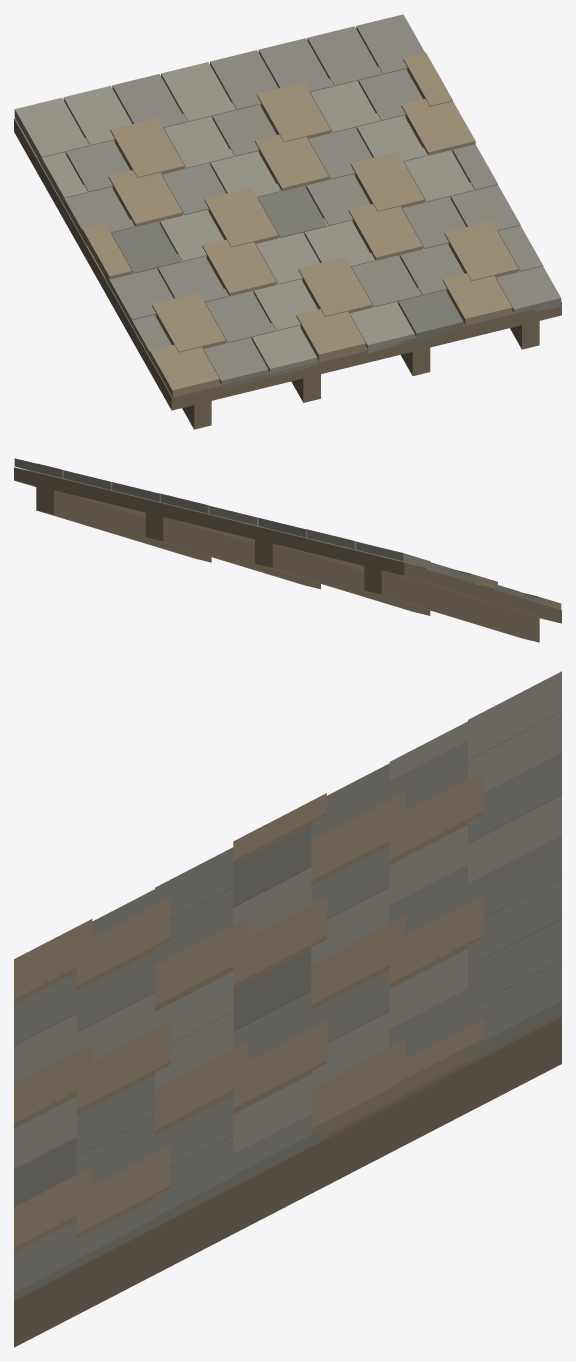
The model's file is env_roof_shingle_fine_b_v05_mixed_shingles.glb.
3 views of the same model, one above another, from view 1: azimuth 30°, elevation 25°; view 2: azimuth 150°, elevation 25°; view 3: azimuth 270°, elevation 25° (orthographic). The views are drawn at different scales.
Visible parts, largest first — view 1: material_4, material_3, material_5, material_2, material_6; view 2: material_2, material_4, material_5, material_3; view 3: material_4, material_3, material_5, material_2, material_6.
Part boxes in pixels (bbox=[...]): material_4: bbox=[60, 14, 561, 388]; material_3: bbox=[82, 52, 518, 397]; material_5: bbox=[14, 62, 473, 376]; material_2: bbox=[14, 118, 561, 429]; material_6: bbox=[111, 183, 463, 341]; material_2: bbox=[14, 467, 561, 642]; material_4: bbox=[14, 458, 543, 604]; material_5: bbox=[210, 506, 452, 576]; material_3: bbox=[38, 463, 561, 609]; material_4: bbox=[14, 742, 561, 1300]; material_3: bbox=[14, 771, 483, 1252]; material_5: bbox=[14, 671, 561, 1169]; material_2: bbox=[14, 1015, 561, 1347]; material_6: bbox=[14, 826, 311, 1206].
Size of the model in its own units: 2 by 1.03 by 1.4.
